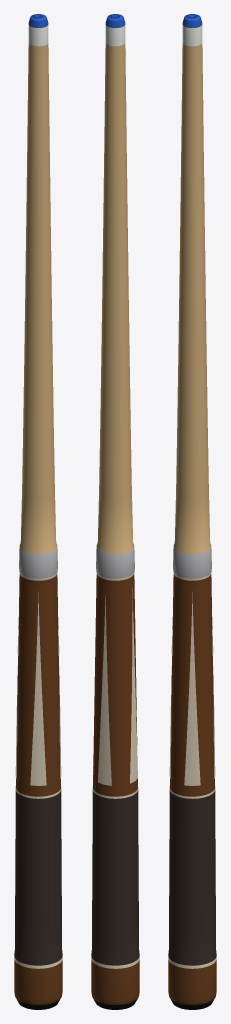
File: Cue.fbx
3 views of the same model, side by side, from view 1: azimuth 90°, elevation 25°; view 2: azimuth 150°, elevation 25°; view 3: azimuth 270°, elevation 25° (orthographic).
Parts seen in each view (by area): view 1: Cue; view 2: Cue; view 3: Cue.
Part boxes in pixels (bbox=[...]): Cue: bbox=[14, 14, 62, 1009]; Cue: bbox=[91, 14, 139, 1009]; Cue: bbox=[168, 14, 216, 1009].
Bounding box in the file's own units: 41 × 920 × 41.
